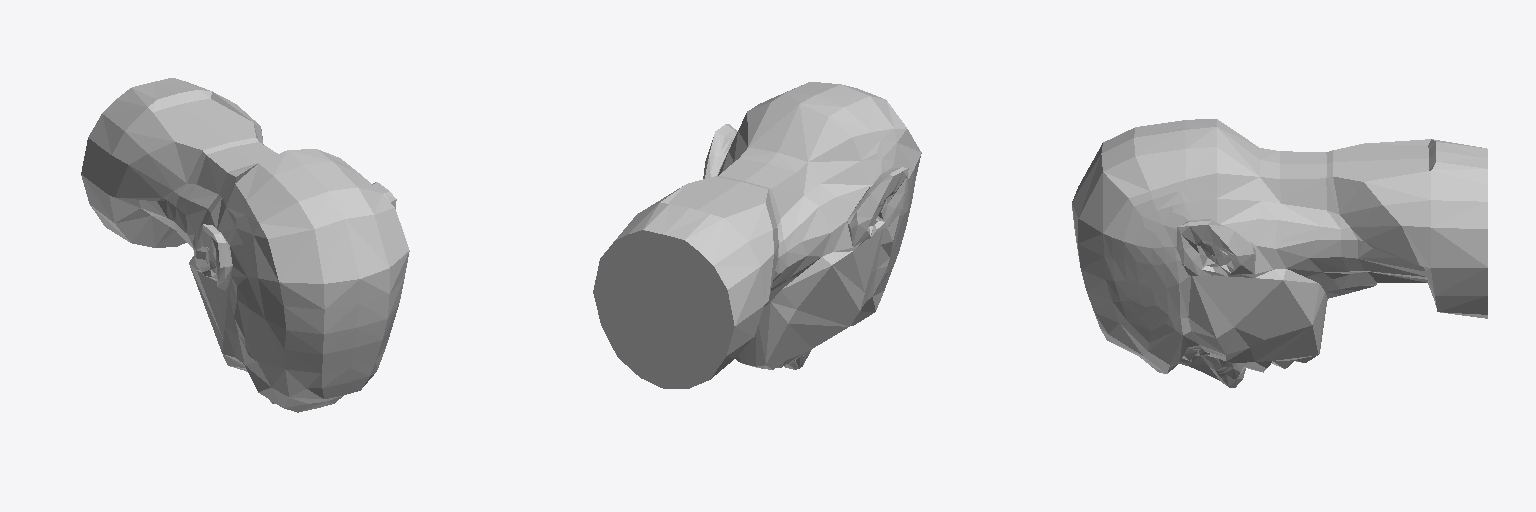
The model's file is asaro-head2.obj.
3 renders of one model, left to right at view 1: azimuth 30°, elevation 25°; view 2: azimuth 150°, elevation 25°; view 3: azimuth 270°, elevation 25°, orthographic.
Parts seen in each view (by area): view 1: model_0; view 2: model_0; view 3: model_0.
Part boxes in pixels (left/top/right/bottom): model_0: left=81, top=78, right=409, bottom=412; model_0: left=593, top=82, right=921, bottom=388; model_0: left=1072, top=119, right=1487, bottom=387.
Bounding box in the file's own units: 2.03 × 2.78 × 4.07.